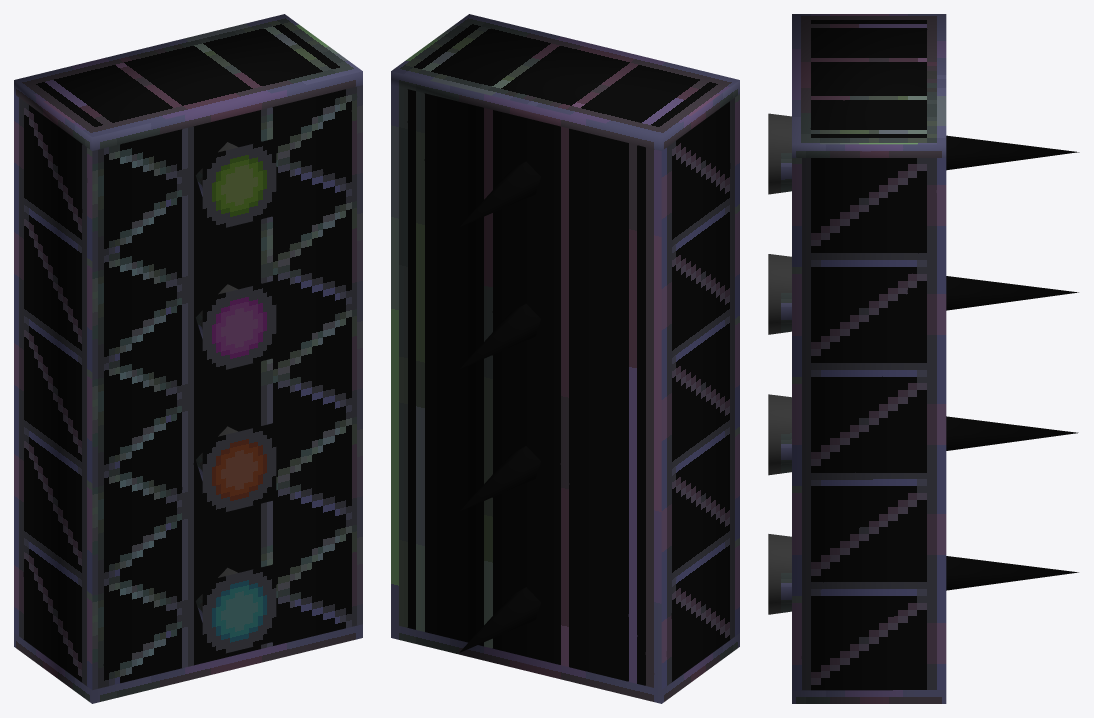
The picture shows the model from 3 angles, left to right: view 1: azimuth 30°, elevation 25°; view 2: azimuth 150°, elevation 25°; view 3: azimuth 270°, elevation 25°; orthographic projection.
Visible parts, largest first — view 1: 3308IMIG08_05; view 2: 3308IMIG08_05; view 3: 3308IMIG08_05.
Part boxes in pixels (x1,y1,x2,y2): 3308IMIG08_05: (14, 14, 362, 703); 3308IMIG08_05: (391, 14, 739, 703); 3308IMIG08_05: (768, 14, 1079, 703).
Bounding box in the file's own units: 0.8999 × 1.8 × 0.9072.
4 materials, 4 textured.
